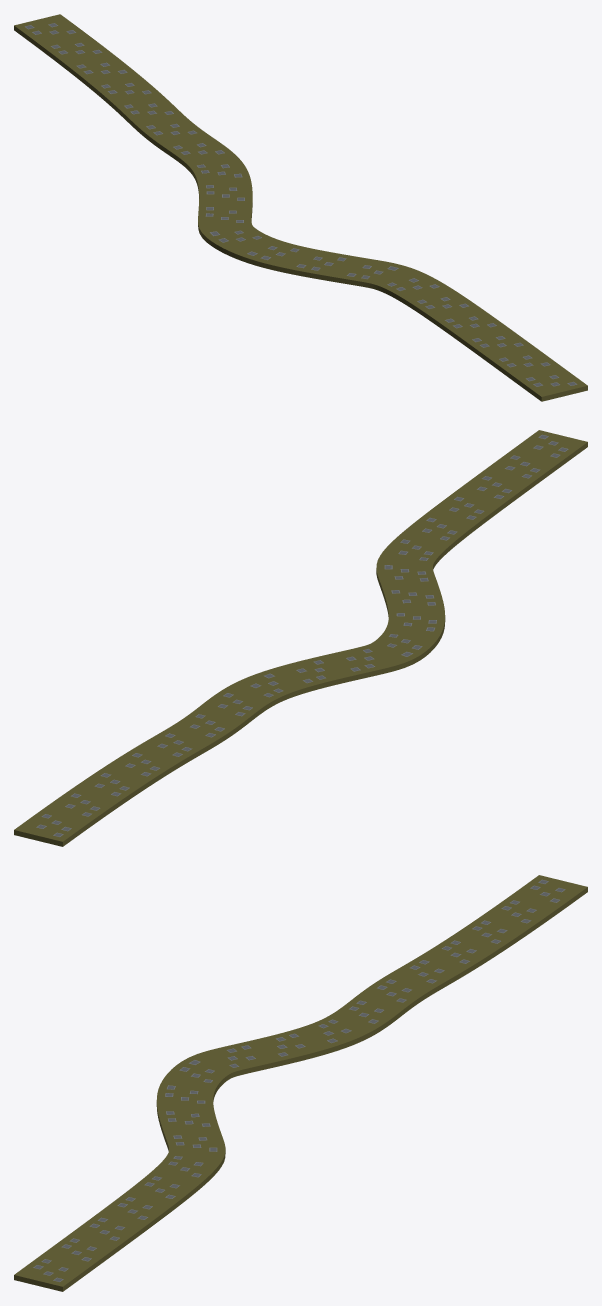
File: patterns TILEcurve.fbx
The picture shows the model from 3 angles, top to bottom: view 1: azimuth 30°, elevation 25°; view 2: azimuth 150°, elevation 25°; view 3: azimuth 330°, elevation 25°; orthographic projection. The views are drawn at different scales.
Visible parts, largest first — view 1: Cube; view 2: Cube; view 3: Cube.
Boxes of the visible parts, box(x1,y1,x2,y2) form: Cube: box(14, 14, 587, 401); Cube: box(14, 430, 587, 846); Cube: box(14, 875, 587, 1291).
Size of the model in its own units: 871 by 30 by 5753.
1 material, 1 textured.
